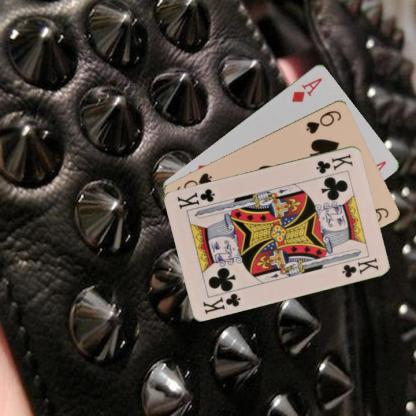6s: (303, 107, 343, 135)
Ad: (289, 74, 323, 104)
Kc: (200, 290, 242, 315), (314, 151, 354, 175)
